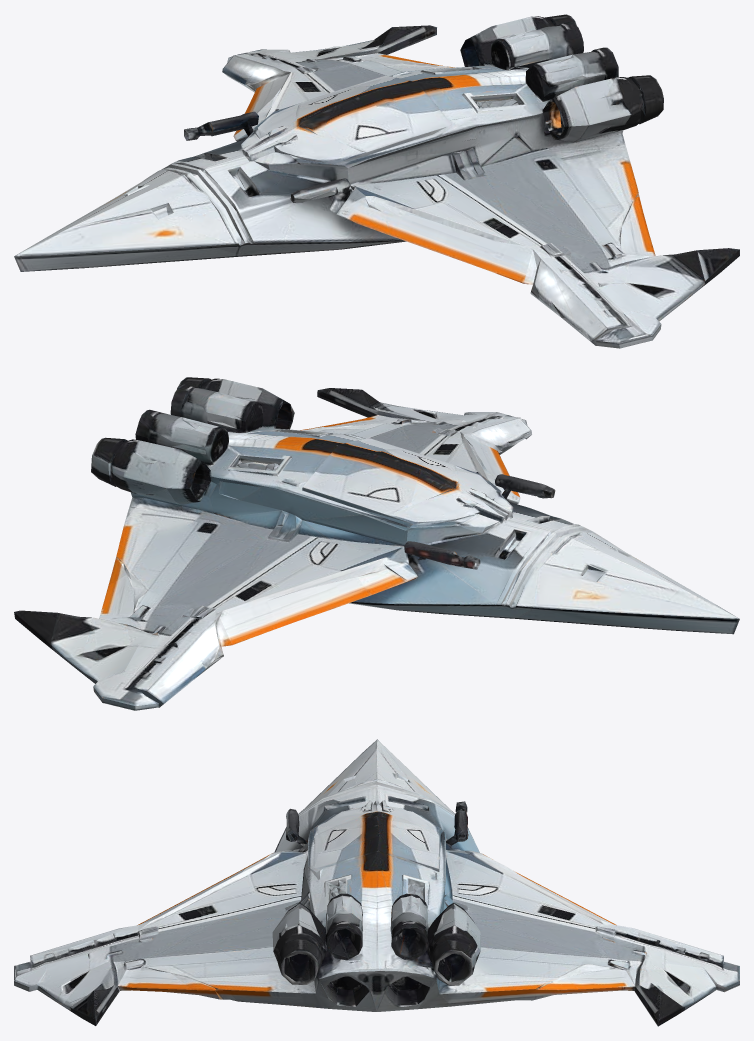
Rendered from nation-u-cruiser.glb.
3 views of the same model, one above another, from view 1: azimuth 30°, elevation 25°; view 2: azimuth 150°, elevation 25°; view 3: azimuth 270°, elevation 25° (orthographic). The views are drawn at different scales.
Size of the model in its own units: 1.68 by 0.3537 by 1.9.
1 material, 1 textured.
